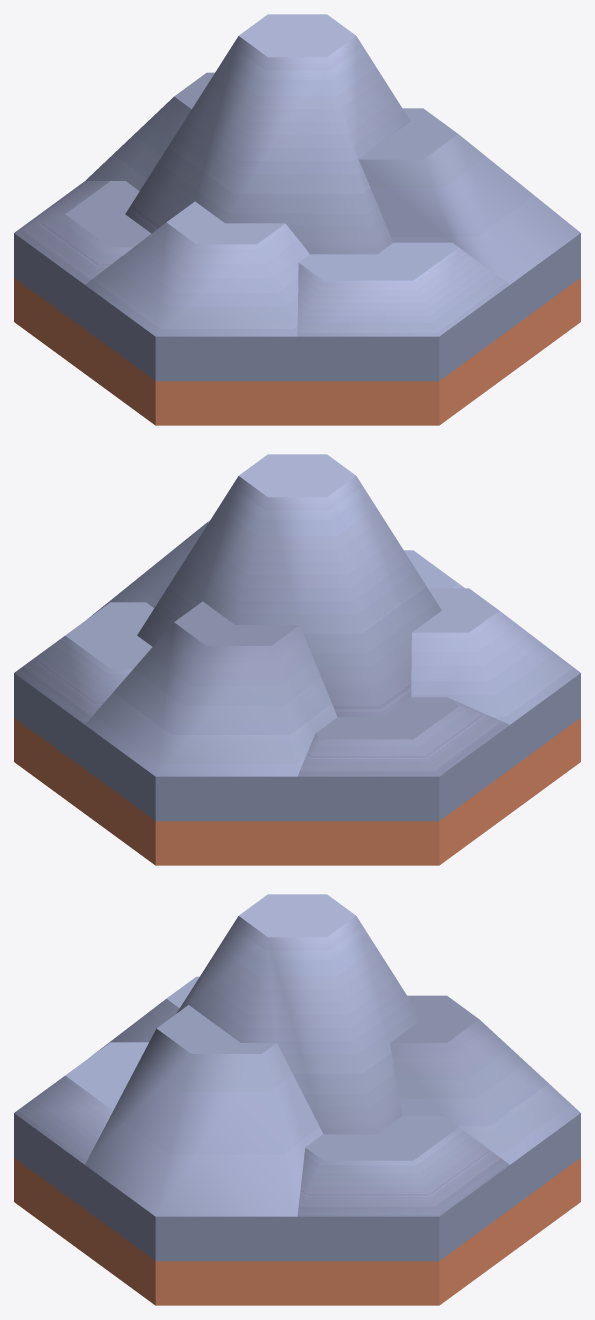
File: stone-hill.glb
The picture shows the model from 3 angles, top to bottom: view 1: azimuth 30°, elevation 25°; view 2: azimuth 150°, elevation 25°; view 3: azimuth 270°, elevation 25°; orthographic projection.
Visible parts, largest first — view 1: stone-hill; view 2: stone-hill; view 3: stone-hill.
Boxes of the visible parts, bbox=[...] form: stone-hill: bbox=[14, 14, 580, 425]; stone-hill: bbox=[14, 454, 580, 865]; stone-hill: bbox=[14, 894, 580, 1305].
Size of the model in its own units: 1 by 0.6433 by 1.15.
Materials: 1 (1 with a texture image).
